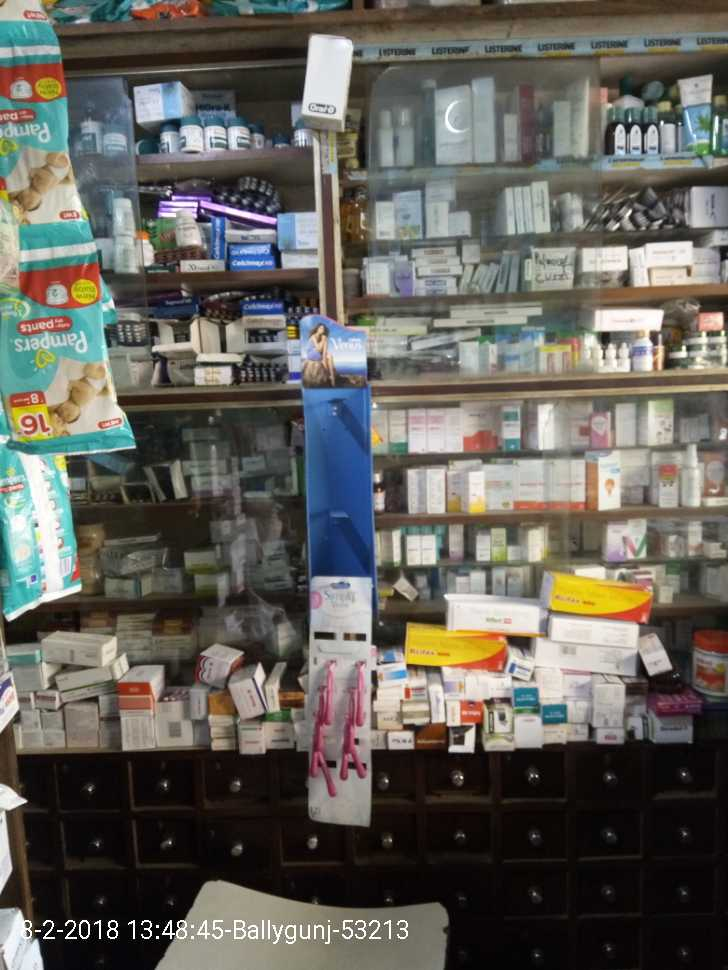pampers: (5, 244, 116, 463), (1, 53, 94, 235)
